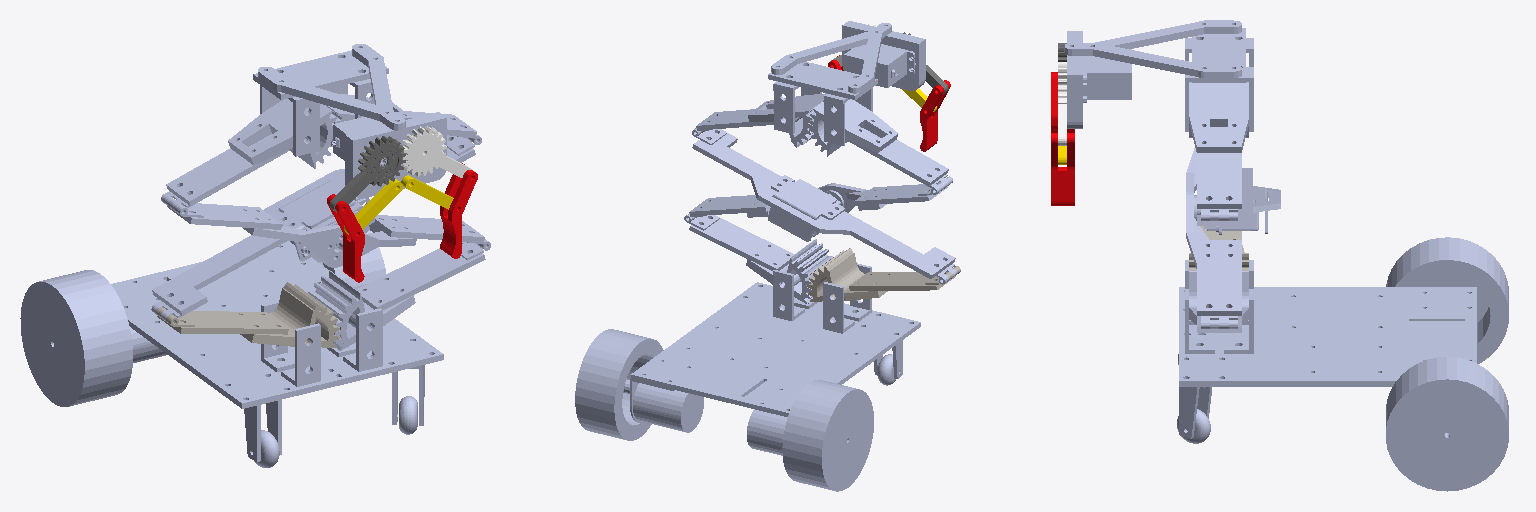
--- What the picture shows (computed from the rendered views, not written in the file) ---
The picture shows the robot from 3 angles, left to right: view 1: azimuth 30°, elevation 25°; view 2: azimuth 150°, elevation 25°; view 3: azimuth 270°, elevation 25°; orthographic projection.
Model final1 with 20 links and 19 joints (2 revolute, 14 continuous, 3 fixed), rooted at chassis, posed all joints at 0.
Links seen in each view (by area): view 1: chassis, wheel1, top, board1, board2, board5, board4, gear1, gear2, gear3, hand2, hand1 (+8 smaller); view 2: chassis, top, board1, wheel1, wheel2, board5, board4, board2, gear1, board3, hand1; view 3: chassis, wheel2, top, board3, wheel1, board2, board1, hand2, castersupport2, board4, gear3, gear1.
Link boxes in pixels (left/top/right/bottom): chassis: left=111, top=241, right=443, bottom=408; wheel1: left=20, top=270, right=132, bottom=406; top: left=253, top=44, right=446, bottom=198; board1: left=151, top=135, right=475, bottom=320; board2: left=166, top=197, right=490, bottom=267; board5: left=161, top=99, right=336, bottom=211; board4: left=308, top=242, right=485, bottom=350; gear1: left=156, top=282, right=339, bottom=347; gear2: left=329, top=136, right=405, bottom=212; gear3: left=402, top=126, right=474, bottom=177; hand2: left=440, top=163, right=477, bottom=258; hand1: left=327, top=194, right=364, bottom=282; chassis: left=630, top=263, right=920, bottom=455; top: left=768, top=21, right=925, bottom=145; board1: left=692, top=128, right=956, bottom=284; wheel1: left=782, top=380, right=873, bottom=491; wheel2: left=575, top=329, right=663, bottom=440; board5: left=808, top=99, right=948, bottom=194; board4: left=684, top=213, right=832, bottom=303; board2: left=689, top=176, right=952, bottom=218; gear1: left=807, top=248, right=960, bottom=301; board3: left=696, top=93, right=826, bottom=147; hand1: left=920, top=80, right=950, bottom=151; chassis: left=1179, top=260, right=1476, bottom=386; wheel2: left=1386, top=357, right=1508, bottom=491; top: left=1064, top=20, right=1253, bottom=131; board3: left=1189, top=83, right=1248, bottom=220; wheel1: left=1386, top=237, right=1508, bottom=363; board2: left=1186, top=148, right=1241, bottom=328; board1: left=1197, top=168, right=1280, bottom=234; hand2: left=1051, top=133, right=1074, bottom=205; castersupport2: left=1179, top=387, right=1211, bottom=438; board4: left=1189, top=271, right=1248, bottom=332; gear3: left=1058, top=62, right=1066, bottom=145; gear1: left=1189, top=226, right=1248, bottom=270.
Bounding box of the posed robot: 0.2385 × 0.3074 × 0.2764 m (x, y, z).
20 mesh visuals loaded from 20 distinct referenced files (20 binary STL).

URDF robot description (final1):
<?xml version="1.0" encoding="utf-8"?>
<!-- This URDF was automatically created by SolidWorks to URDF Exporter! Originally created by Stephen Brawner ([email redacted]) 
     Commit Version: 1.6.0-4-g7f85cfe  Build Version: 1.6.7995.38578
     For more information, please see http://wiki.ros.org/sw_urdf_exporter -->
<robot
  name="final1">
  <link
    name="chassis">
    <inertial>
      <origin
        xyz="0.00613369995265407 0.00630158094420034 -0.0129914457038721"
        rpy="0 0 0" />
      <mass
        value="0.229593466768862" />
      <inertia
        ixx="0.000409002358034073"
        ixy="-8.2639843005767E-07"
        ixz="4.22260098488292E-07"
        iyy="0.000250284517054187"
        iyz="2.42531452126971E-20"
        izz="0.000637401494004145" />
    </inertial>
    <visual>
      <origin
        xyz="0 0 0"
        rpy="0 0 0" />
      <geometry>
        <mesh
          filename="package://final1/meshes/chassis.STL" />
      </geometry>
      <material
        name="">
        <color
          rgba="0.792156862745098 0.819607843137255 0.933333333333333 1" />
      </material>
    </visual>
    <collision>
      <origin
        xyz="0 0 0"
        rpy="0 0 0" />
      <geometry>
        <mesh
          filename="package://final1/meshes/chassis.STL" />
      </geometry>
    </collision>
  </link>
  <link
    name="wheel1">
    <inertial>
      <origin
        xyz="6.93889390390723E-18 0.0138687133269963 -4.85722573273506E-17"
        rpy="0 0 0" />
      <mass
        value="0.109892125624407" />
      <inertia
        ixx="7.85873544749506E-05"
        ixy="-1.20579652732877E-21"
        ixz="-3.3881317890172E-21"
        iyy="0.000131114516168852"
        iyz="-1.75843179456861E-19"
        izz="7.85873544749506E-05" />
    </inertial>
    <visual>
      <origin
        xyz="0 0 0"
        rpy="0 0 0" />
      <geometry>
        <mesh
          filename="package://final1/meshes/wheel1.STL" />
      </geometry>
      <material
        name="">
        <color
          rgba="0.792156862745098 0.819607843137255 0.933333333333333 1" />
      </material>
    </visual>
    <collision>
      <origin
        xyz="0 0 0"
        rpy="0 0 0" />
      <geometry>
        <mesh
          filename="package://final1/meshes/wheel1.STL" />
      </geometry>
    </collision>
  </link>
  <joint
    name="wheel1"
    type="fixed">
    <origin
      xyz="-0.104227344246978 0.055 -0.0225698233330696"
      rpy="-3.14159265358979 0.199161601196109 1.5707963267949" />
    <parent
      link="chassis" />
    <child
      link="wheel1" />
    <axis
      xyz="0 0 0" />
  </joint>
  <link
    name="wheel2">
    <inertial>
      <origin
        xyz="0 0.0138687133269963 -6.93889390390723E-18"
        rpy="0 0 0" />
      <mass
        value="0.109892125624408" />
      <inertia
        ixx="7.85873544749506E-05"
        ixy="1.34030673189279E-20"
        ixz="1.01643953670516E-20"
        iyy="0.000131114516168852"
        iyz="-2.08411120707856E-20"
        izz="7.85873544749506E-05" />
    </inertial>
    <visual>
      <origin
        xyz="0 0 0"
        rpy="0 0 0" />
      <geometry>
        <mesh
          filename="package://final1/meshes/wheel2.STL" />
      </geometry>
      <material
        name="">
        <color
          rgba="0.792156862745098 0.819607843137255 0.933333333333333 1" />
      </material>
    </visual>
    <collision>
      <origin
        xyz="0 0 0"
        rpy="0 0 0" />
      <geometry>
        <mesh
          filename="package://final1/meshes/wheel2.STL" />
      </geometry>
    </collision>
  </link>
  <joint
    name="wheel2"
    type="fixed">
    <origin
      xyz="0.115377293089526 0.0549999999999999 -0.0225698233330696"
      rpy="-3.14159265358979 0.663030869689347 -1.5707963267949" />
    <parent
      link="chassis" />
    <child
      link="wheel2" />
    <axis
      xyz="0 0 0" />
  </joint>
  <link
    name="castersupport1">
    <inertial>
      <origin
        xyz="0.00337745633298084 6.93889390390723E-18 -0.0127717338858997"
        rpy="0 0 0" />
      <mass
        value="0.00411404602499779" />
      <inertia
        ixx="9.67010911600631E-07"
        ixy="-5.29395592033938E-23"
        ixz="8.45755550847914E-08"
        iyy="8.04763775735206E-07"
        iyz="1.02570395956575E-22"
        izz="3.48632255889656E-07" />
    </inertial>
    <visual>
      <origin
        xyz="0 0 0"
        rpy="0 0 0" />
      <geometry>
        <mesh
          filename="package://final1/meshes/castersupport1.STL" />
      </geometry>
      <material
        name="">
        <color
          rgba="0.792156862745098 0.819607843137255 0.933333333333333 1" />
      </material>
    </visual>
    <collision>
      <origin
        xyz="0 0 0"
        rpy="0 0 0" />
      <geometry>
        <mesh
          filename="package://final1/meshes/castersupport1.STL" />
      </geometry>
    </collision>
  </link>
  <joint
    name="castersupport1"
    type="continuous">
    <origin
      xyz="-0.0475049493705497 -0.108253164903643 -0.00756982333306975"
      rpy="0 0 -1.47606245011241" />
    <parent
      link="chassis" />
    <child
      link="castersupport1" />
    <axis
      xyz="0 0 1" />
  </joint>
  <link
    name="caster1">
    <inertial>
      <origin
        xyz="-2.08166817117217E-17 5.55111512312578E-17 6.93889390390723E-18"
        rpy="0 0 0" />
      <mass
        value="0.00471054386314053" />
      <inertia
        ixx="3.21165618764568E-07"
        ixy="-8.27180612553028E-24"
        ixz="1.13737334226041E-24"
        iyy="2.05837935766083E-07"
        iyz="0"
        izz="2.05837935766083E-07" />
    </inertial>
    <visual>
      <origin
        xyz="0 0 0"
        rpy="0 0 0" />
      <geometry>
        <mesh
          filename="package://final1/meshes/caster1.STL" />
      </geometry>
      <material
        name="">
        <color
          rgba="0.792156862745098 0.819607843137255 0.933333333333333 1" />
      </material>
    </visual>
    <collision>
      <origin
        xyz="0 0 0"
        rpy="0 0 0" />
      <geometry>
        <mesh
          filename="package://final1/meshes/caster1.STL" />
      </geometry>
    </collision>
  </link>
  <joint
    name="caster1"
    type="continuous">
    <origin
      xyz="0.00525647128559317 0 -0.0355"
      rpy="3.08535695083018 0 1.5707963267949" />
    <parent
      link="castersupport1" />
    <child
      link="caster1" />
    <axis
      xyz="-1 0 0" />
  </joint>
  <link
    name="castersupport2">
    <inertial>
      <origin
        xyz="0.00282750209319937 -0.00184727994471481 -0.0127717338858997"
        rpy="0 0 0" />
      <mass
        value="0.00411404602499779" />
      <inertia
        ixx="9.18475023125732E-07"
        ixy="-7.42904867509172E-08"
        ixz="7.08040416986509E-08"
        iyy="8.53299664210105E-07"
        iyz="-4.62581041228054E-08"
        izz="3.48632255889656E-07" />
    </inertial>
    <visual>
      <origin
        xyz="0 0 0"
        rpy="0 0 0" />
      <geometry>
        <mesh
          filename="package://final1/meshes/castersupport2.STL" />
      </geometry>
      <material
        name="">
        <color
          rgba="0.792156862745098 0.819607843137255 0.933333333333333 1" />
      </material>
    </visual>
    <collision>
      <origin
        xyz="0 0 0"
        rpy="0 0 0" />
      <geometry>
        <mesh
          filename="package://final1/meshes/castersupport2.STL" />
      </geometry>
    </collision>
  </link>
  <joint
    name="castersupport2"
    type="continuous">
    <origin
      xyz="0.0620451353841467 -0.11065850882518 -0.00756982333306975"
      rpy="0 0 -1.5707963267949" />
    <parent
      link="chassis" />
    <child
      link="castersupport2" />
    <axis
      xyz="0 0 1" />
  </joint>
  <link
    name="caster2">
    <inertial>
      <origin
        xyz="1.38777878078145E-17 0 0"
        rpy="0 0 0" />
      <mass
        value="0.00471054386314053" />
      <inertia
        ixx="3.21165618764568E-07"
        ixy="2.48326381932326E-24"
        ixz="3.30872245021211E-23"
        iyy="2.05837935766083E-07"
        iyz="-5.849080488902E-25"
        izz="2.05837935766083E-07" />
    </inertial>
    <visual>
      <origin
        xyz="0 0 0"
        rpy="0 0 0" />
      <geometry>
        <mesh
          filename="package://final1/meshes/caster2.STL" />
      </geometry>
      <material
        name="">
        <color
          rgba="0.792156862745098 0.819607843137255 0.933333333333333 1" />
      </material>
    </visual>
    <collision>
      <origin
        xyz="0 0 0"
        rpy="0 0 0" />
      <geometry>
        <mesh
          filename="package://final1/meshes/caster2.STL" />
      </geometry>
    </collision>
  </link>
  <joint
    name="caster2"
    type="continuous">
    <origin
      xyz="0.00440055535810283 -0.00287499615939536 -0.0355"
      rpy="1.5707963267949 0 0.992086691936833" />
    <parent
      link="castersupport2" />
    <child
      link="caster2" />
    <axis
      xyz="-1 0 0" />
  </joint>
  <link
    name="gear1">
    <inertial>
      <origin
        xyz="2.81856651652007E-05 -0.0153454075800095 0.00837592472436732"
        rpy="0 0 0" />
      <mass
        value="0.0317935210335691" />
      <inertia
        ixx="1.16560777768163E-05"
        ixy="4.61843746752259E-09"
        ixz="-2.25216653280953E-09"
        iyy="5.12253542666033E-06"
        iyz="1.25643846965817E-06"
        izz="1.38238140386437E-05" />
    </inertial>
    <visual>
      <origin
        xyz="0 0 0"
        rpy="0 0 0" />
      <geometry>
        <mesh
          filename="package://final1/meshes/gear1.STL" />
      </geometry>
      <material
        name="">
        <color
          rgba="0.776470588235294 0.756862745098039 0.737254901960784 1" />
      </material>
    </visual>
    <collision>
      <origin
        xyz="0 0 0"
        rpy="0 0 0" />
      <geometry>
        <mesh
          filename="package://final1/meshes/gear1.STL" />
      </geometry>
    </collision>
  </link>
  <joint
    name="gear1"
    type="continuous">
    <origin
      xyz="-0.0181750251067888 -0.0979999999999982 0.0294301766669303"
      rpy="0 0 -1.57079632679486" />
    <parent
      link="chassis" />
    <child
      link="gear1" />
    <axis
      xyz="1 0 0" />
  </joint>
  <link
    name="board1">
    <inertial>
      <origin
        xyz="-0.0205081823311091 0.108973759378584 0.0625642861950044"
        rpy="0 0 0" />
      <mass
        value="0.0572555536827576" />
      <inertia
        ixx="0.000114202153557095"
        ixy="8.74780526938288E-07"
        ixz="2.92878423048748E-07"
        iyy="3.59662702864365E-05"
        iyz="-4.80894337995041E-05"
        izz="9.27796896295438E-05" />
    </inertial>
    <visual>
      <origin
        xyz="0 0 0"
        rpy="0 0 0" />
      <geometry>
        <mesh
          filename="package://final1/meshes/board1.STL" />
      </geometry>
      <material
        name="">
        <color
          rgba="0.792156862745098 0.819607843137255 0.933333333333333 1" />
      </material>
    </visual>
    <collision>
      <origin
        xyz="0 0 0"
        rpy="0 0 0" />
      <geometry>
        <mesh
          filename="package://final1/meshes/board1.STL" />
      </geometry>
    </collision>
  </link>
  <joint
    name="board1"
    type="continuous">
    <origin
      xyz="0.00937499999999386 -0.0937271976597312 0.0315984552879671"
      rpy="-0.234048063844204 0 0" />
    <parent
      link="gear1" />
    <child
      link="board1" />
    <axis
      xyz="1 0 0" />
  </joint>
  <link
    name="board2">
    <inertial>
      <origin
        xyz="-0.0110541589156927 0.00260247877343705 0.00587877379117568"
        rpy="0 0 0" />
      <mass
        value="0.0317851309060024" />
      <inertia
        ixx="2.6960265298137E-05"
        ixy="3.70254119070302E-08"
        ixz="1.26199405021752E-07"
        iyy="5.02185591677241E-06"
        iyz="7.12778925061468E-06"
        izz="2.72000545154937E-05" />
    </inertial>
    <visual>
      <origin
        xyz="0 0 0"
        rpy="0 0 0" />
      <geometry>
        <mesh
          filename="package://final1/meshes/board2.STL" />
      </geometry>
      <material
        name="">
        <color
          rgba="0.792156862745098 0.819607843137255 0.933333333333333 1" />
      </material>
    </visual>
    <collision>
      <origin
        xyz="0 0 0"
        rpy="0 0 0" />
      <geometry>
        <mesh
          filename="package://final1/meshes/board2.STL" />
      </geometry>
    </collision>
  </link>
  <joint
    name="servo1"
    type="revolute">
    <origin
      xyz="0.00667500000000625 0.106157111929533 0.0560881217576914"
      rpy="0.232921764091441 0 0" />
    <parent
      link="board1" />
    <child
      link="board2" />
    <axis
      xyz="-1 0 0" />
    <limit
      lower="0"
      upper="3.1415926"
      effort="0"
      velocity="0" />
  </joint>
  <link
    name="board5">
    <inertial>
      <origin
        xyz="0.00934865613941714 0.0791580790946631 0.00587806879172742"
        rpy="0 0 0" />
      <mass
        value="0.0340068695605596" />
      <inertia
        ixx="1.15962818951109E-05"
        ixy="-5.01490953565992E-09"
        ixz="-1.11963693967199E-09"
        iyy="5.68870536645412E-06"
        iyz="7.71806671641703E-07"
        izz="1.38816719010992E-05" />
    </inertial>
    <visual>
      <origin
        xyz="0 0 0"
        rpy="0 0 0" />
      <geometry>
        <mesh
          filename="package://final1/meshes/board5.STL" />
      </geometry>
      <material
        name="">
        <color
          rgba="0.792156862745098 0.819607843137255 0.933333333333333 1" />
      </material>
    </visual>
    <collision>
      <origin
        xyz="0 0 0"
        rpy="0 0 0" />
      <geometry>
        <mesh
          filename="package://final1/meshes/board5.STL" />
      </geometry>
    </collision>
  </link>
  <joint
    name="board5"
    type="continuous">
    <origin
      xyz="-0.0254250075370901 -0.109439580977679 0.0459981465012512"
      rpy="0.298507206962358 0 0" />
    <parent
      link="board2" />
    <child
      link="board5" />
    <axis
      xyz="1 0 0" />
  </joint>
  <link
    name="board4">
    <inertial>
      <origin
        xyz="0.00934910581368559 -0.0688574811369109 -0.0456718132795131"
        rpy="0 0 0" />
      <mass
        value="0.0346068771760984" />
      <inertia
        ixx="1.25069237626088E-05"
        ixy="3.79364184119836E-09"
        ixz="3.46550294902654E-09"
        iyy="7.32001010801531E-06"
        iyz="-3.53739035989426E-06"
        izz="1.32510113745274E-05" />
    </inertial>
    <visual>
      <origin
        xyz="0 0 0"
        rpy="0 0 0" />
      <geometry>
        <mesh
          filename="package://final1/meshes/board4.STL" />
      </geometry>
      <material
        name="">
        <color
          rgba="0.792156862745098 0.819607843137255 0.933333333333333 1" />
      </material>
    </visual>
    <collision>
      <origin
        xyz="0 0 0"
        rpy="0 0 0" />
      <geometry>
        <mesh
          filename="package://final1/meshes/board4.STL" />
      </geometry>
    </collision>
  </link>
  <joint
    name="board4"
    type="fixed">
    <origin
      xyz="-0.0254249999999964 0.116244508362709 -0.0300403778674326"
      rpy="-0.285379904133439 0 0" />
    <parent
      link="board2" />
    <child
      link="board4" />
    <axis
      xyz="0 0 0" />
  </joint>
  <link
    name="board3">
    <inertial>
      <origin
        xyz="0.00940372803364216 -0.0781620182084577 0.00439998221872193"
        rpy="0 0 0" />
      <mass
        value="0.031193512714522" />
      <inertia
        ixx="1.07454351908289E-05"
        ixy="-5.01500850573541E-09"
        ixz="1.11963057151511E-09"
        iyy="4.97784788108154E-06"
        iyz="-8.41673425790099E-07"
        izz="1.29678583133734E-05" />
    </inertial>
    <visual>
      <origin
        xyz="0 0 0"
        rpy="0 0 0" />
      <geometry>
        <mesh
          filename="package://final1/meshes/board3.STL" />
      </geometry>
      <material
        name="">
        <color
          rgba="0.792156862745098 0.819607843137255 0.933333333333333 1" />
      </material>
    </visual>
    <collision>
      <origin
        xyz="0 0 0"
        rpy="0 0 0" />
      <geometry>
        <mesh
          filename="package://final1/meshes/board3.STL" />
      </geometry>
    </collision>
  </link>
  <joint
    name="board3"
    type="continuous">
    <origin
      xyz="-0.0187499999998701 0.201754969083007 0.12664489658574"
      rpy="-0.0618631809787212 0 0" />
    <parent
      link="board1" />
    <child
      link="board3" />
    <axis
      xyz="1 0 0" />
  </joint>
  <link
    name="top">
    <inertial>
      <origin
        xyz="0.0593054738669918 -0.0267343649135683 0.0116678091197351"
        rpy="0 0 0" />
      <mass
        value="0.0908911135399866" />
      <inertia
        ixx="3.58700915974931E-05"
        ixy="1.74012550121025E-07"
        ixz="2.75457490543132E-08"
        iyy="2.67019895400404E-05"
        iyz="-6.30069578948813E-06"
        izz="4.35759423678862E-05" />
    </inertial>
    <visual>
      <origin
        xyz="0 0 0"
        rpy="0 0 0" />
      <geometry>
        <mesh
          filename="package://final1/meshes/top.STL" />
      </geometry>
      <material
        name="">
        <color
          rgba="0.792156862745098 0.819607843137255 0.933333333333333 1" />
      </material>
    </visual>
    <collision>
      <origin
        xyz="0 0 0"
        rpy="0 0 0" />
      <geometry>
        <mesh
          filename="package://final1/meshes/top.STL" />
      </geometry>
    </collision>
  </link>
  <joint
    name="top"
    type="continuous">
    <origin
      xyz="0.0093749999998769 -0.0959878446324843 0.00824461516029251"
      rpy="-0.0173871570490782 0 0" />
    <parent
      link="board3" />
    <child
      link="top" />
    <axis
      xyz="1 0 0" />
  </joint>
  <link
    name="gear2">
    <inertial>
      <origin
        xyz="-0.00208454909514388 -0.00645927497035101 -0.00457171083693486"
        rpy="0 0 0" />
      <mass
        value="0.00499476661130099" />
      <inertia
        ixx="1.33421630709661E-06"
        ixy="9.64180035243084E-09"
        ixz="6.82422505828581E-09"
        iyy="5.3629628750162E-07"
        iyz="-4.08251482932244E-07"
        izz="8.24001512894535E-07" />
    </inertial>
    <visual>
      <origin
        xyz="0 0 0"
        rpy="0 0 0" />
      <geometry>
        <mesh
          filename="package://final1/meshes/gear2.STL" />
      </geometry>
      <material
        name="">
        <color
          rgba="0.486274509803922 0.486274509803922 0.486274509803922 1" />
      </material>
    </visual>
    <collision>
      <origin
        xyz="0 0 0"
        rpy="0 0 0" />
      <geometry>
        <mesh
          filename="package://final1/meshes/gear2.STL" />
      </geometry>
    </collision>
  </link>
  <joint
    name="servo2"
    type="revolute">
    <origin
      xyz="0.106892556516242 -0.0386982658122677 0.00432370986319441"
      rpy="0.312172102119241 0 0" />
    <parent
      link="top" />
    <child
      link="gear2" />
    <axis
      xyz="-1 0 0" />
    <limit
      lower="0"
      upper="3.1415926"
      effort="0"
      velocity="0" />
  </joint>
  <link
    name="hand1">
    <inertial>
      <origin
        xyz="-0.00554999907474349 0.0273501415183054 -0.00427409875971355"
        rpy="0 0 0" />
      <mass
        value="0.00471611444420382" />
      <inertia
        ixx="1.41160651209585E-06"
        ixy="4.53744025217185E-12"
        ixz="-3.8622832512301E-13"
        iyy="2.66142331725543E-07"
        iyz="3.48674718637266E-07"
        izz="1.40319115853696E-06" />
    </inertial>
    <visual>
      <origin
        xyz="0 0 0"
        rpy="0 0 0" />
      <geometry>
        <mesh
          filename="package://final1/meshes/hand1.STL" />
      </geometry>
      <material
        name="">
        <color
          rgba="1 0.0588235294117647 0.0941176470588235 1" />
      </material>
    </visual>
    <collision>
      <origin
        xyz="0 0 0"
        rpy="0 0 0" />
      <geometry>
        <mesh
          filename="package://final1/meshes/hand1.STL" />
      </geometry>
    </collision>
  </link>
  <joint
    name="hand1"
    type="continuous">
    <origin
      xyz="0.00344999999999829 -0.03264793300015 -0.0231108721018276"
      rpy="-1.10365021578606 0 0" />
    <parent
      link="gear2" />
    <child
      link="hand1" />
    <axis
      xyz="-1 0 0" />
  </joint>
  <link
    name="gear3">
    <inertial>
      <origin
        xyz="-2.33146835171283E-15 0.00591940701864347 -0.00419169120159812"
        rpy="0 0 0" />
      <mass
        value="0.00549380749824067" />
      <inertia
        ixx="1.44601023614243E-06"
        ixy="-5.40308326699562E-16"
        ixz="4.47715962898415E-16"
        iyy="5.80928254142259E-07"
        iyz="4.50539467395998E-07"
        izz="8.98044317350155E-07" />
    </inertial>
    <visual>
      <origin
        xyz="0 0 0"
        rpy="0 0 0" />
      <geometry>
        <mesh
          filename="package://final1/meshes/gear3.STL" />
      </geometry>
      <material
        name="">
        <color
          rgba="1 1 1 1" />
      </material>
    </visual>
    <collision>
      <origin
        xyz="0 0 0"
        rpy="0 0 0" />
      <geometry>
        <mesh
          filename="package://final1/meshes/gear3.STL" />
      </geometry>
    </collision>
  </link>
  <joint
    name="gear3"
    type="continuous">
    <origin
      xyz="0.104892556516239 -0.00995786882977603 0.0135989302650266"
      rpy="0.312172102119241 0 0" />
    <parent
      link="top" />
    <child
      link="gear3" />
    <axis
      xyz="1 0 0" />
  </joint>
  <link
    name="hand2">
    <inertial>
      <origin
        xyz="9.99990747409529E-05 -0.0275499903644661 -0.00426400003963216"
        rpy="0 0 0" />
      <mass
        value="0.00471611447460078" />
      <inertia
        ixx="1.41160655980341E-06"
        ixy="4.53745646825186E-12"
        ixz="3.86197490061259E-13"
        iyy="2.66142331097016E-07"
        iyz="-3.48674730889721E-07"
        izz="1.4031912076512E-06" />
    </inertial>
    <visual>
      <origin
        xyz="0 0 0"
        rpy="0 0 0" />
      <geometry>
        <mesh
          filename="package://final1/meshes/hand2.STL" />
      </geometry>
      <material
        name="">
        <color
          rgba="1 0.0588235294117647 0.0941176470588235 1" />
      </material>
    </visual>
    <collision>
      <origin
        xyz="0 0 0"
        rpy="0 0 0" />
      <geometry>
        <mesh
          filename="package://final1/meshes/hand2.STL" />
      </geometry>
    </collision>
  </link>
  <joint
    name="hand2"
    type="continuous">
    <origin
      xyz="0 0.0327671350219092 -0.0229415531831647"
      rpy="1.10279502458518 0 0" />
    <parent
      link="gear3" />
    <child
      link="hand2" />
    <axis
      xyz="1 0 0" />
  </joint>
  <link
    name="stick1">
    <inertial>
      <origin
        xyz="-1.66533453693773E-16 -0.0199999992334472 1.0797203131574E-09"
        rpy="0 0 0" />
      <mass
        value="0.00211895706275184" />
      <inertia
        ixx="3.68575855232393E-07"
        ixy="4.66154864748028E-23"
        ixz="-6.49177591341319E-24"
        iyy="1.77333862540839E-08"
        iyz="1.8446127659924E-22"
        izz="3.6355621135482E-07" />
    </inertial>
    <visual>
      <origin
        xyz="0 0 0"
        rpy="0 0 0" />
      <geometry>
        <mesh
          filename="package://final1/meshes/stick1.STL" />
      </geometry>
      <material
        name="">
        <color
          rgba="1 0.890196078431372 0 1" />
      </material>
    </visual>
    <collision>
      <origin
        xyz="0 0 0"
        rpy="0 0 0" />
      <geometry>
        <mesh
          filename="package://final1/meshes/stick1.STL" />
      </geometry>
    </collision>
  </link>
  <joint
    name="stick1"
    type="continuous">
    <origin
      xyz="0.104892556516244 -0.022955667571484 -0.0116114901804902"
      rpy="0.928168174411869 0 0" />
    <parent
      link="top" />
    <child
      link="stick1" />
    <axis
      xyz="-1 0 0" />
  </joint>
  <link
    name="stick2">
    <inertial>
      <origin
        xyz="-6.66133814775094E-16 0.0199999992346245 1.08097064632773E-09"
        rpy="0 0 0" />
      <mass
        value="0.00211895706275184" />
      <inertia
        ixx="3.68575855232393E-07"
        ixy="5.05763161341298E-21"
        ixz="6.40655286300515E-23"
        iyy="1.77333862540839E-08"
        iyz="-4.69694079477107E-18"
        izz="3.6355621135482E-07" />
    </inertial>
    <visual>
      <origin
        xyz="0 0 0"
        rpy="0 0 0" />
      <geometry>
        <mesh
          filename="package://final1/meshes/stick2.STL" />
      </geometry>
      <material
        name="">
        <color
          rgba="1 0.890196078431372 0 1" />
      </material>
    </visual>
    <collision>
      <origin
        xyz="0 0 0"
        rpy="0 0 0" />
      <geometry>
        <mesh
          filename="package://final1/meshes/stick2.STL" />
      </geometry>
    </collision>
  </link>
  <joint
    name="stick2"
    type="continuous">
    <origin
      xyz="0.104892556516239 -0.0134154078675825 -0.00853261788868986"
      rpy="-0.303696878309267 0 0" />
    <parent
      link="top" />
    <child
      link="stick2" />
    <axis
      xyz="-1 0 0" />
  </joint>
</robot>
